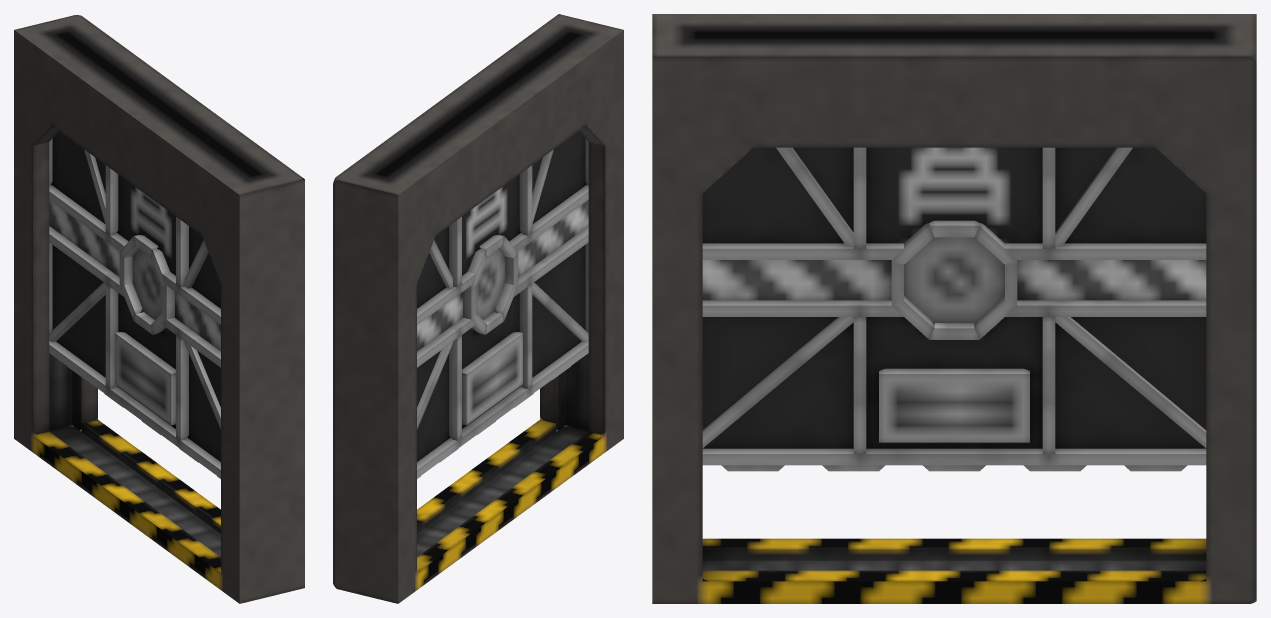
The model's file is qe_containment_41.obj.
3 views of the same model, side by side, from view 1: azimuth 30°, elevation 25°; view 2: azimuth 150°, elevation 25°; view 3: azimuth 270°, elevation 25° (orthographic). The views are drawn at different scales.
Visible parts, largest first — view 1: Frame, Door; view 2: Frame, Door; view 3: Frame, Door.
Boxes of the visible parts, x1,y1,x2,y2 form: Frame: (14, 15, 304, 603); Door: (49, 131, 220, 478); Frame: (333, 14, 623, 603); Door: (417, 131, 588, 478); Frame: (652, 14, 1256, 603); Door: (702, 147, 1206, 471).
Bounding box in the file's own units: 0.5 × 3 × 3.
